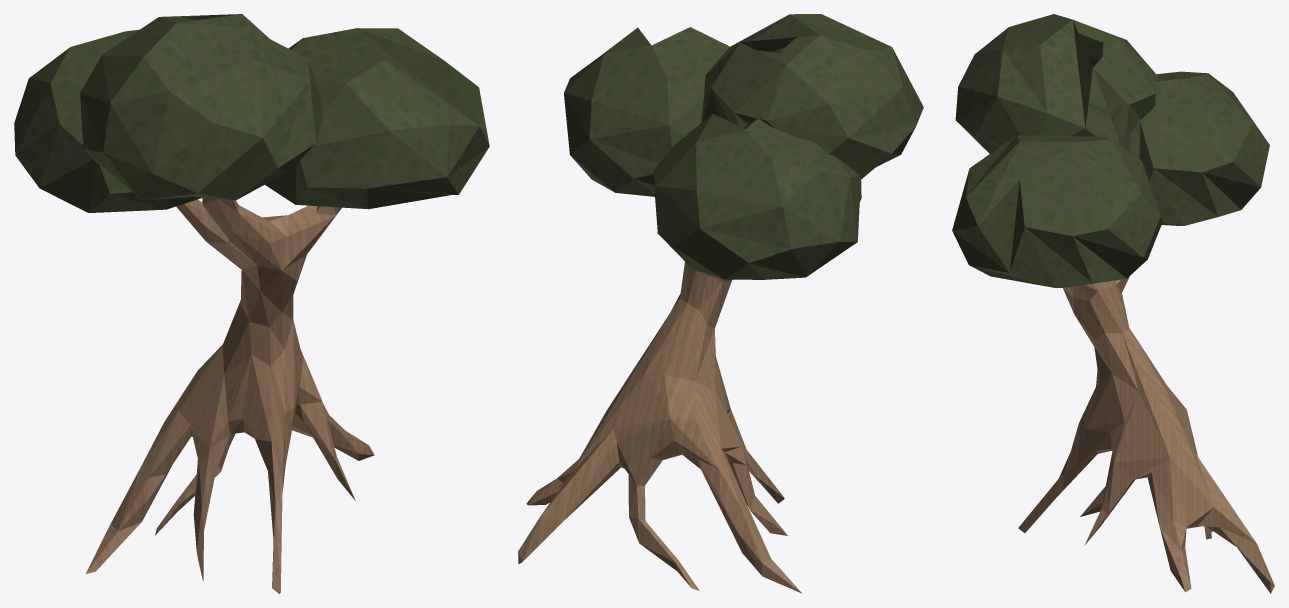
The model's file is Arvore_C_Normal.fbx.
The picture shows the model from 3 angles, left to right: view 1: azimuth 30°, elevation 25°; view 2: azimuth 150°, elevation 25°; view 3: azimuth 270°, elevation 25°; orthographic projection. The views are drawn at different scales.
Parts seen in each view (by area): view 1: Arvore_C_Topo, Arvore_C; view 2: Arvore_C_Topo, Arvore_C; view 3: Arvore_C_Topo, Arvore_C.
Boxes of the visible parts, x1,y1,x2,y2 form: Arvore_C_Topo: (14, 14, 489, 212); Arvore_C: (86, 197, 374, 593); Arvore_C_Topo: (564, 14, 923, 279); Arvore_C: (518, 262, 802, 593); Arvore_C_Topo: (952, 14, 1269, 287); Arvore_C: (1018, 276, 1274, 593).
Size of the model in its own units: 483 by 723 by 426.
Materials: 2 (2 with a texture image).
